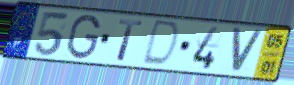4: (189, 25, 219, 71)
5: (32, 10, 71, 58)
D: (139, 19, 182, 69)
G: (65, 13, 102, 61)
T: (116, 18, 146, 63)
V: (230, 26, 265, 76)
